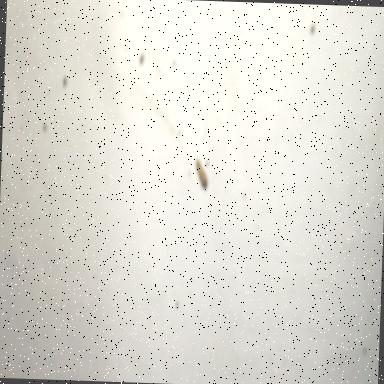pbw: (194, 160, 208, 188)
